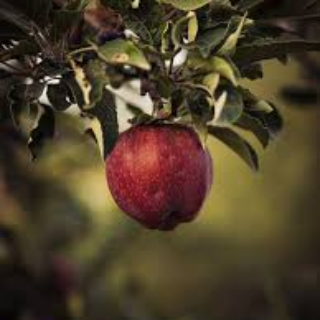tao: (102, 119, 217, 233)
